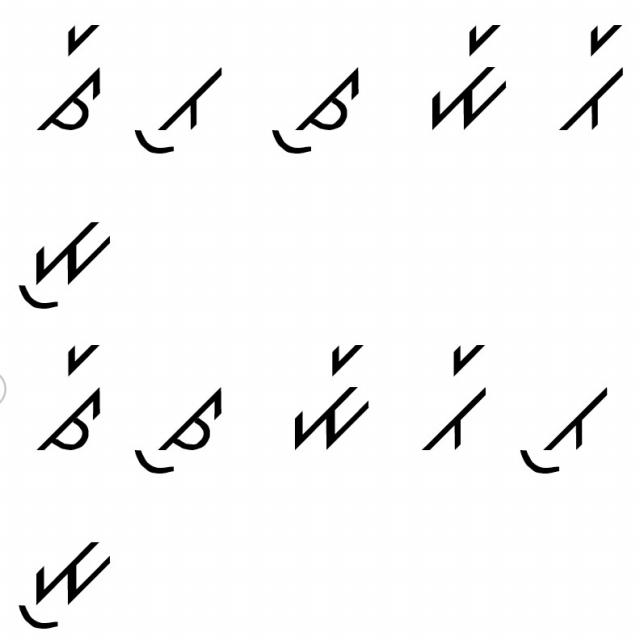bar: (407, 331, 493, 458), (556, 22, 626, 134)
baw: (515, 371, 611, 485), (128, 54, 226, 160)
car: (36, 20, 106, 142), (37, 340, 107, 460)
caw: (263, 58, 369, 158), (129, 374, 229, 480)
mar: (283, 334, 380, 456), (425, 15, 512, 139)
maw: (13, 204, 113, 310), (16, 531, 116, 635)
